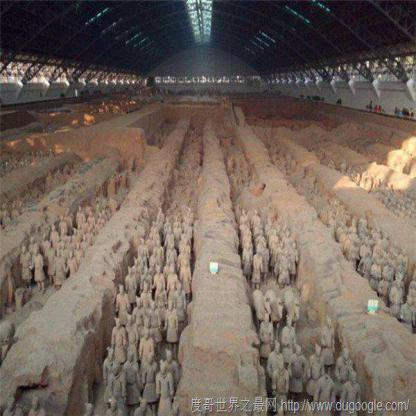other: (330, 111, 414, 197)
